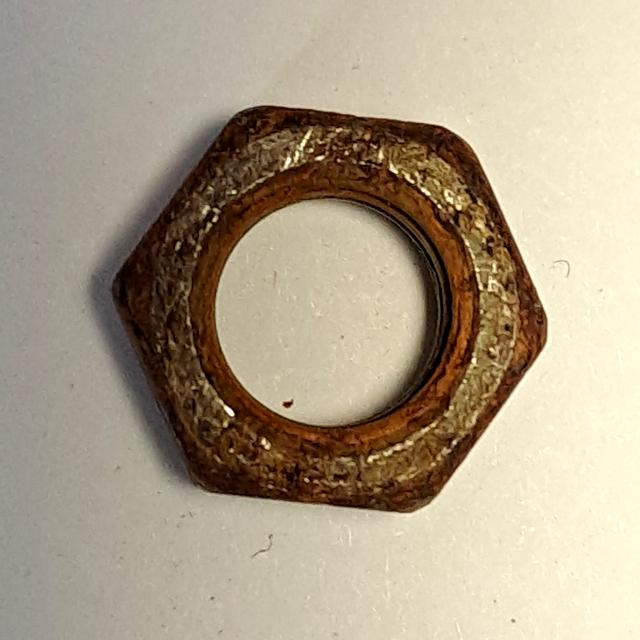Rust: (100, 90, 562, 524)
